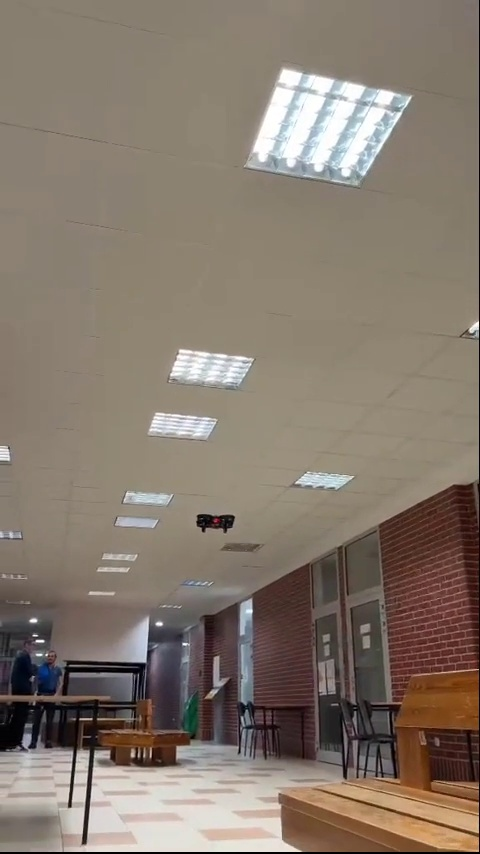drone: (193, 512, 240, 542)
no vest: (8, 635, 38, 758), (39, 647, 68, 748)
